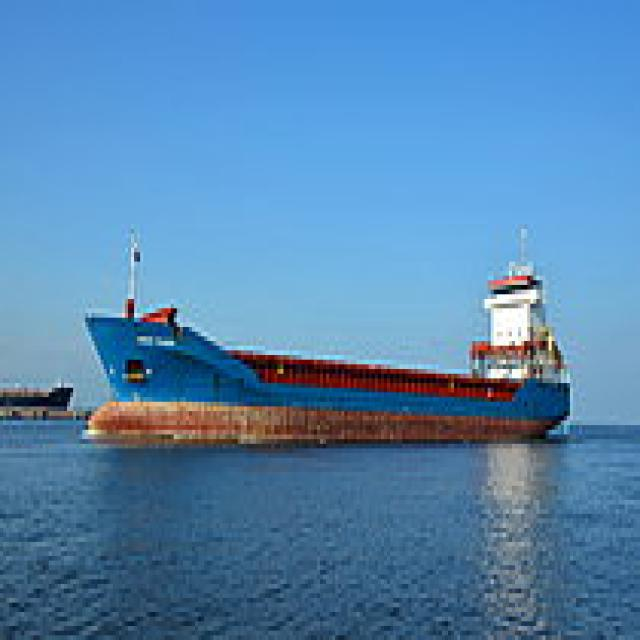Cargo: (76, 215, 570, 439)
